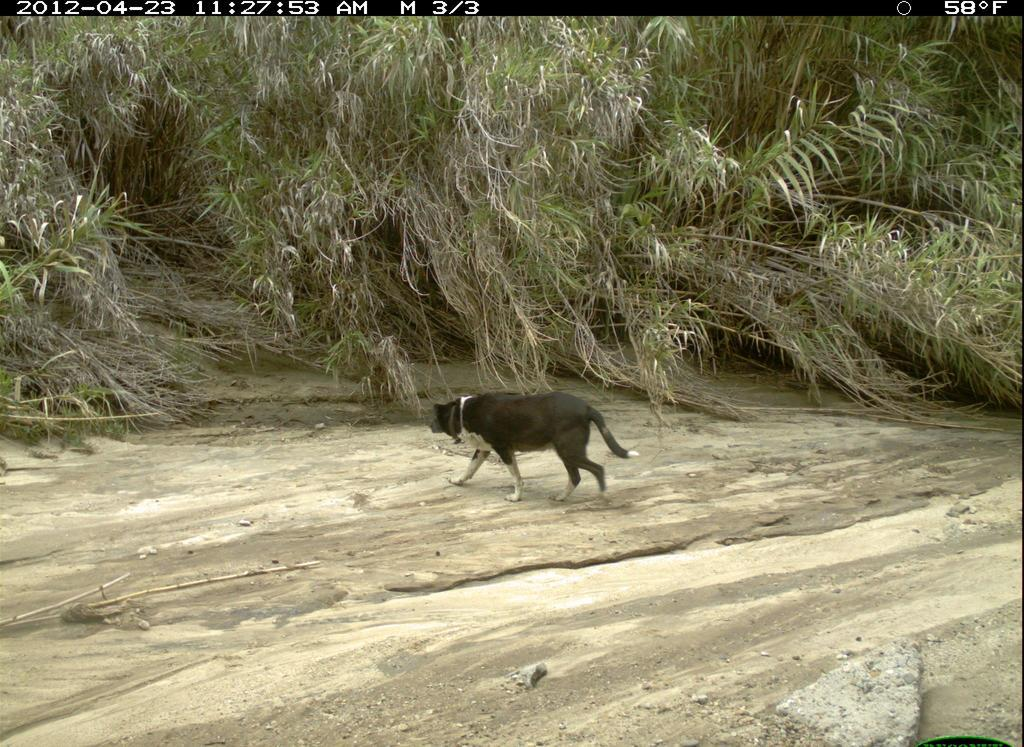dog: (425, 380, 644, 518)
